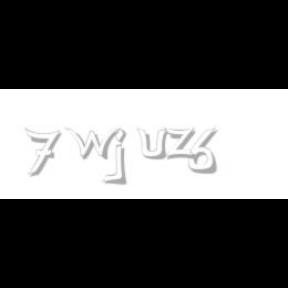6: (189, 128, 218, 176)
7: (24, 128, 62, 178)
j: (112, 128, 140, 186)
u: (136, 128, 171, 160)
w: (64, 128, 124, 160)
z: (164, 128, 200, 160)
